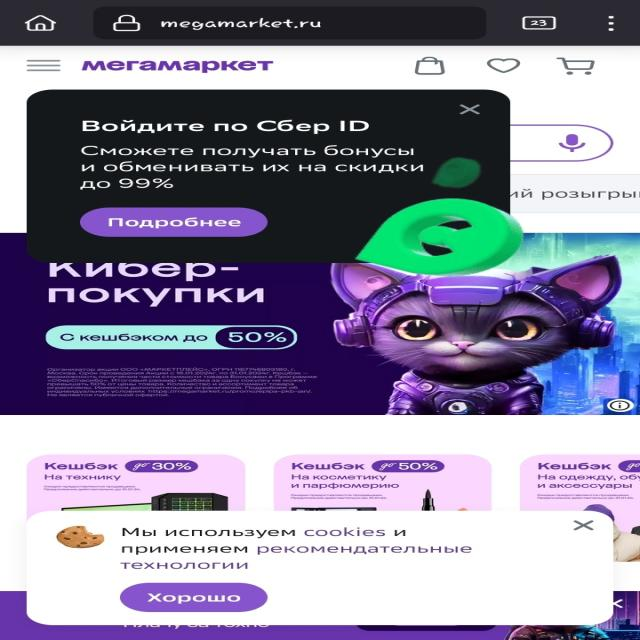button: (82, 206, 270, 239), (119, 580, 270, 612), (567, 517, 599, 534), (452, 102, 486, 117)
site: (28, 90, 512, 263), (31, 511, 610, 626)
